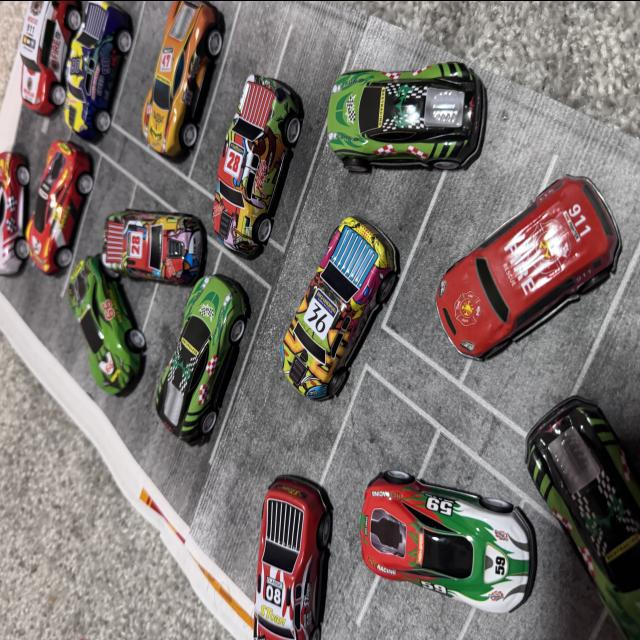Car: (255, 160, 416, 427), (512, 337, 640, 640), (434, 163, 612, 363), (326, 9, 502, 189), (205, 23, 322, 272), (157, 251, 255, 469), (128, 0, 242, 182), (358, 489, 530, 591), (49, 255, 143, 430), (252, 462, 334, 640), (89, 198, 218, 309), (72, 0, 142, 166), (28, 126, 100, 268), (12, 0, 72, 128), (0, 114, 32, 284)
